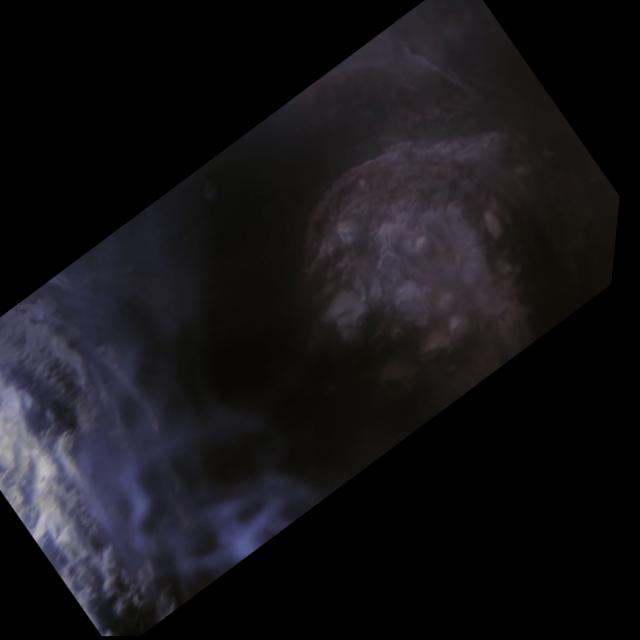Oyster-Closed: (0, 276, 233, 636)
Oyster-Indeterminate: (284, 125, 615, 436)
